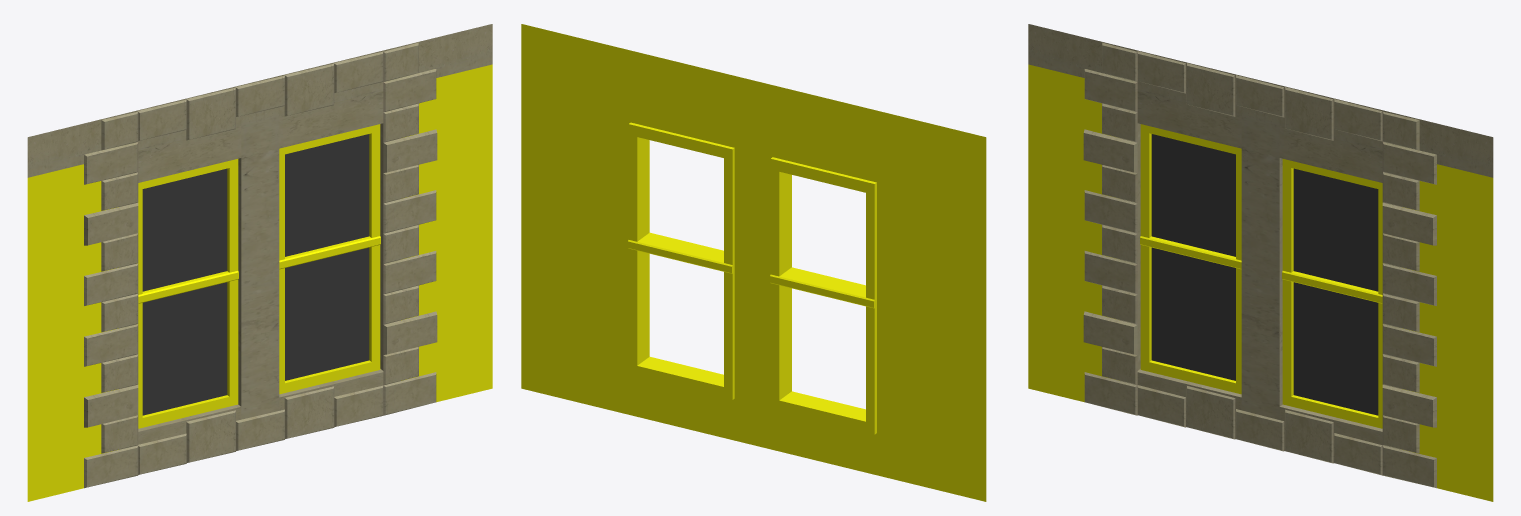
The model's file is brick-redwhite-doublewindow.glb.
The picture shows the model from 3 angles, left to right: view 1: azimuth 30°, elevation 25°; view 2: azimuth 150°, elevation 25°; view 3: azimuth 330°, elevation 25°; orthographic projection.
Parts seen in each view (by area): view 1: Brick_RedWhite_DoubleWindow; view 2: Brick_RedWhite_DoubleWindow; view 3: Brick_RedWhite_DoubleWindow.
Part boxes in pixels (x1,y1,x2,y2): Brick_RedWhite_DoubleWindow: [27, 24, 492, 501]; Brick_RedWhite_DoubleWindow: [521, 24, 986, 501]; Brick_RedWhite_DoubleWindow: [1028, 24, 1493, 501].
Size of the model in its own units: 4 by 3 by 0.2773.
4 materials, 1 textured.
